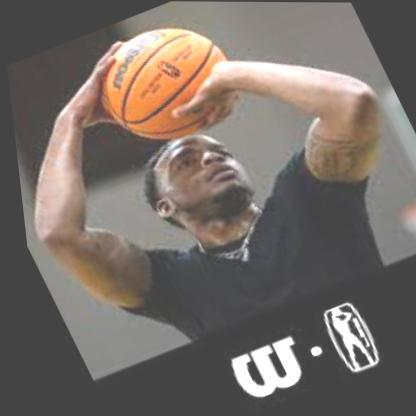basketball: (78, 7, 256, 157)
